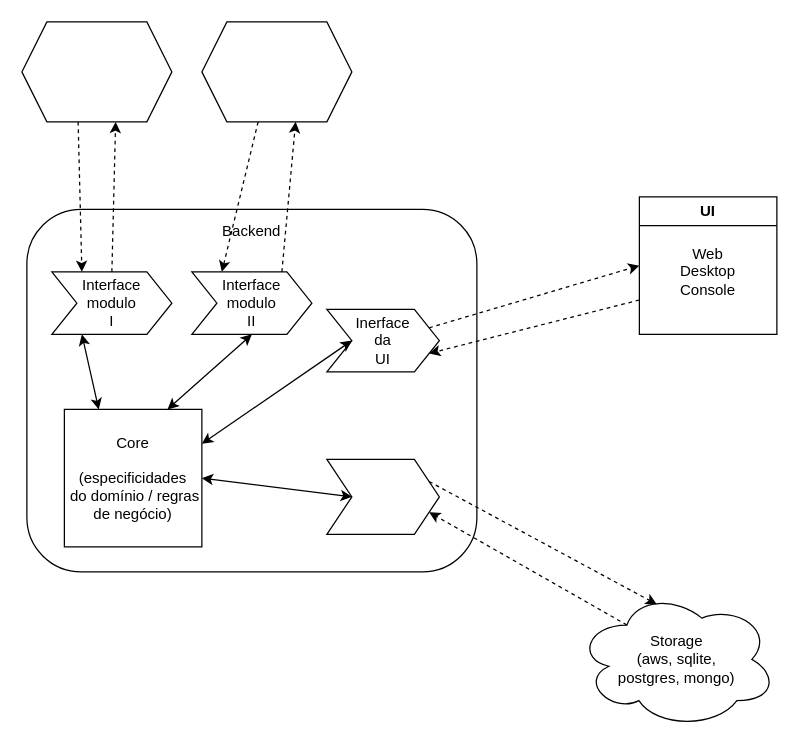
This 799x750 diagram has some shape labels left out. Here are the shapes that lost their labels. From the top down, the centre of each, then its label:
At pixel 96 71: "Modulo I".
At pixel 276 71: "Modulo II".
At pixel 382 496: "Interface do Storage".
